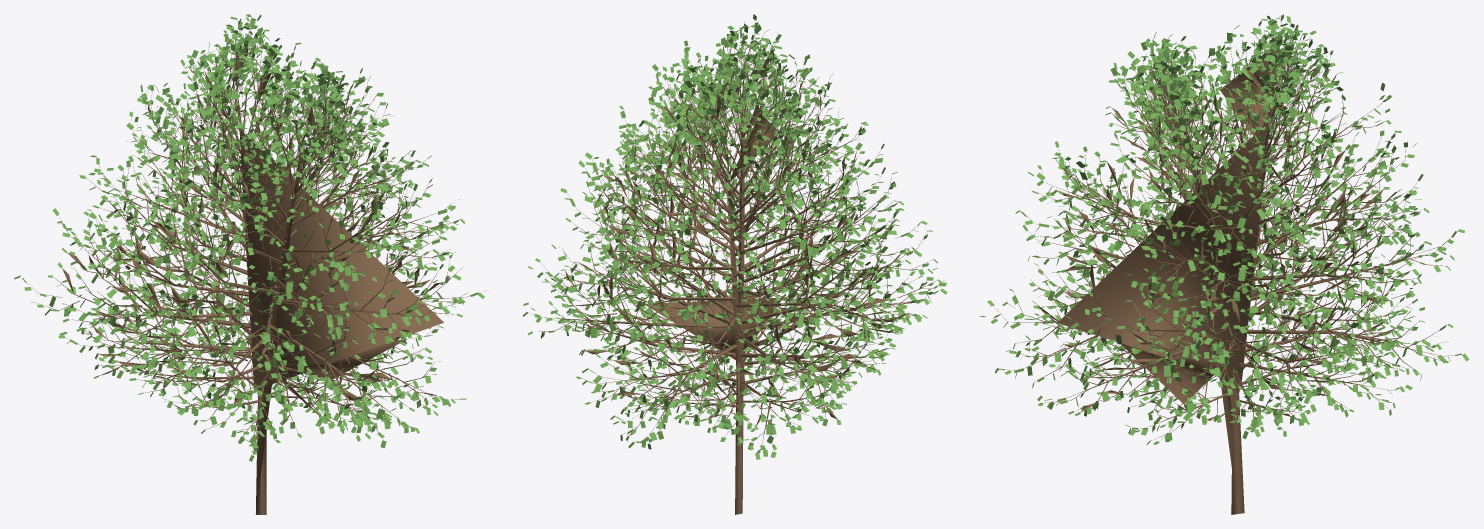
Rendered from maple.glb.
3 renders of one model, left to right at view 1: azimuth 30°, elevation 25°; view 2: azimuth 150°, elevation 25°; view 3: azimuth 270°, elevation 25°, orthographic. The views are drawn at different scales.
Visible parts, largest first — view 1: MapleTree; view 2: MapleTree; view 3: MapleTree.
Boxes of the visible parts, box(x1,y1,x2,y2) form: MapleTree: box(14, 14, 486, 514); MapleTree: box(522, 14, 947, 514); MapleTree: box(979, 14, 1469, 514).
Bounding box in the file's own units: 8.21 × 9.91 × 8.87.
